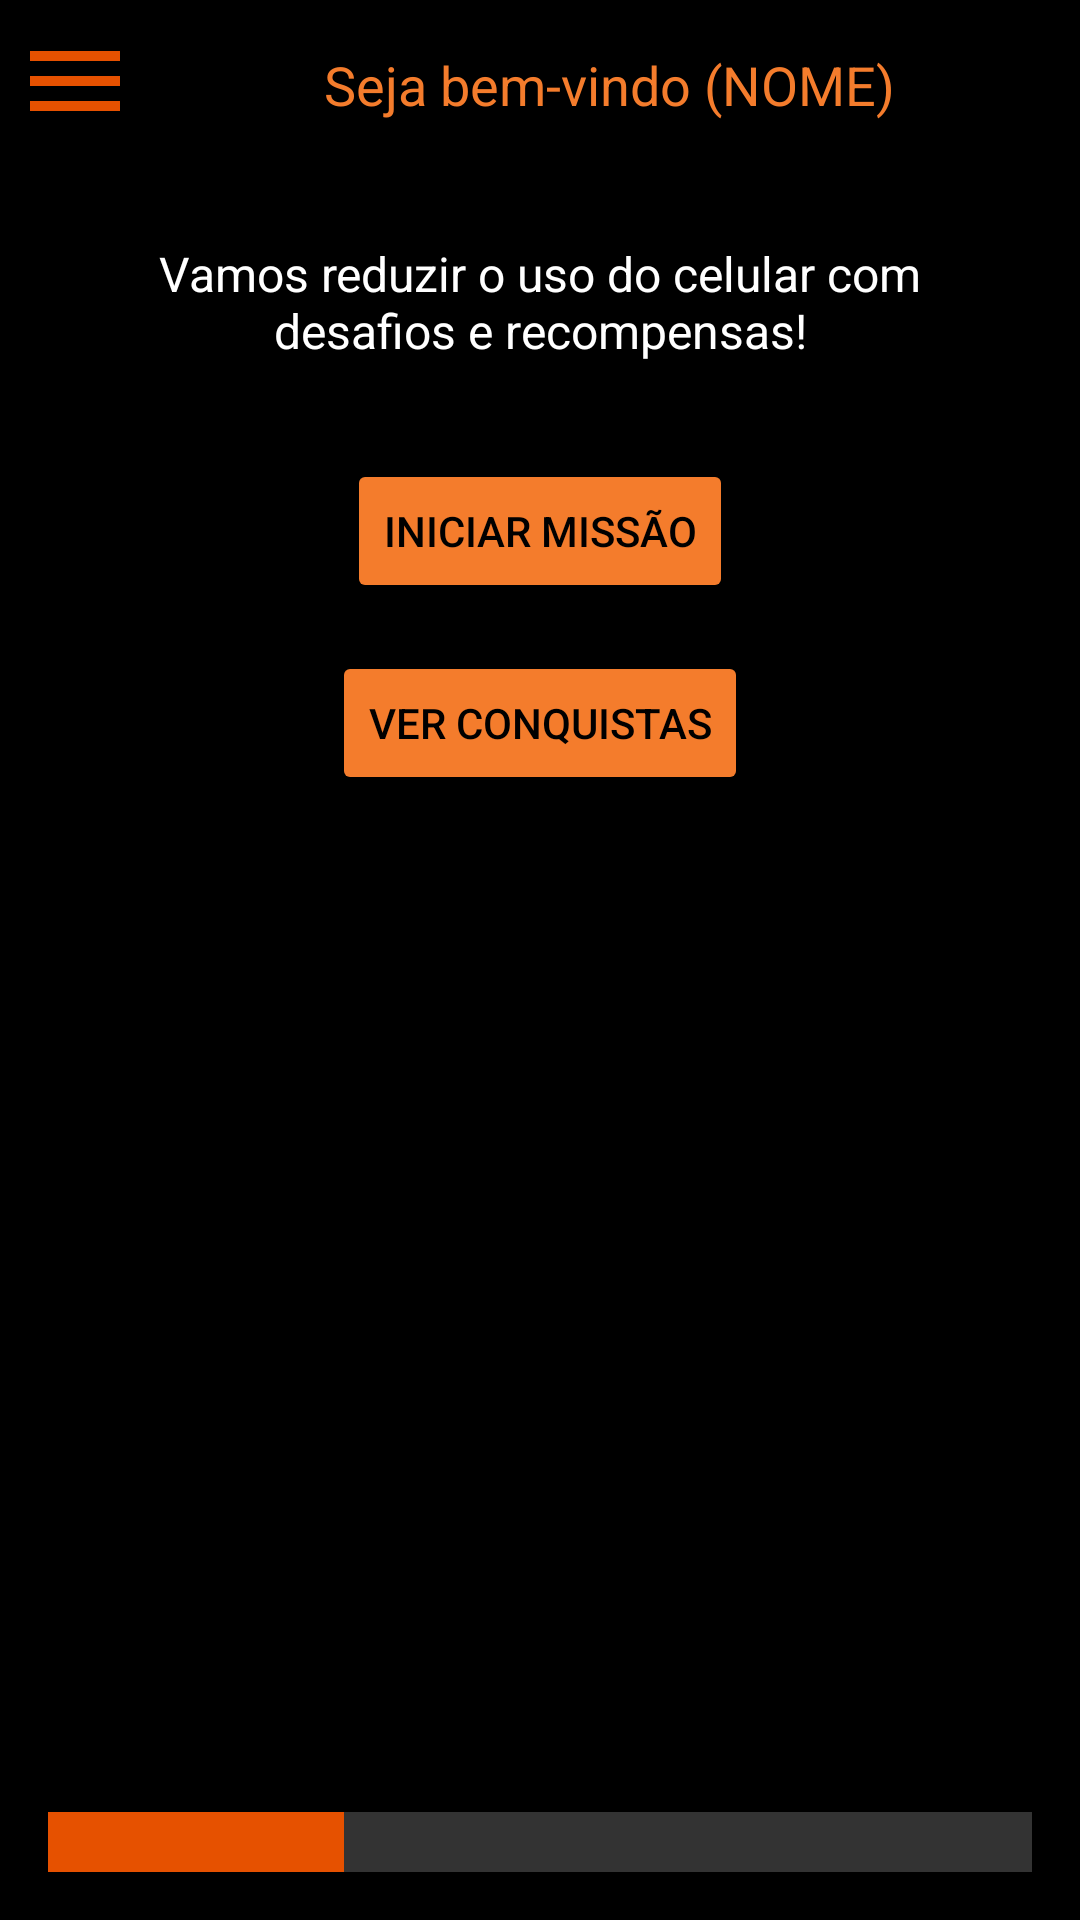

Screen size 1080w x 1920h. Icon name, then its center in pixels as point (x, y):
menu: point (75, 81)
